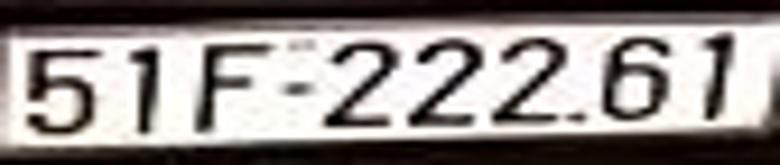-: (281, 79, 314, 94)
.: (567, 110, 587, 123)
1: (130, 47, 158, 135), (704, 33, 730, 123)
2: (412, 39, 480, 127), (328, 40, 392, 127), (498, 36, 562, 123)
5: (26, 49, 99, 133)
6: (604, 36, 668, 121)
F: (199, 43, 266, 132)
